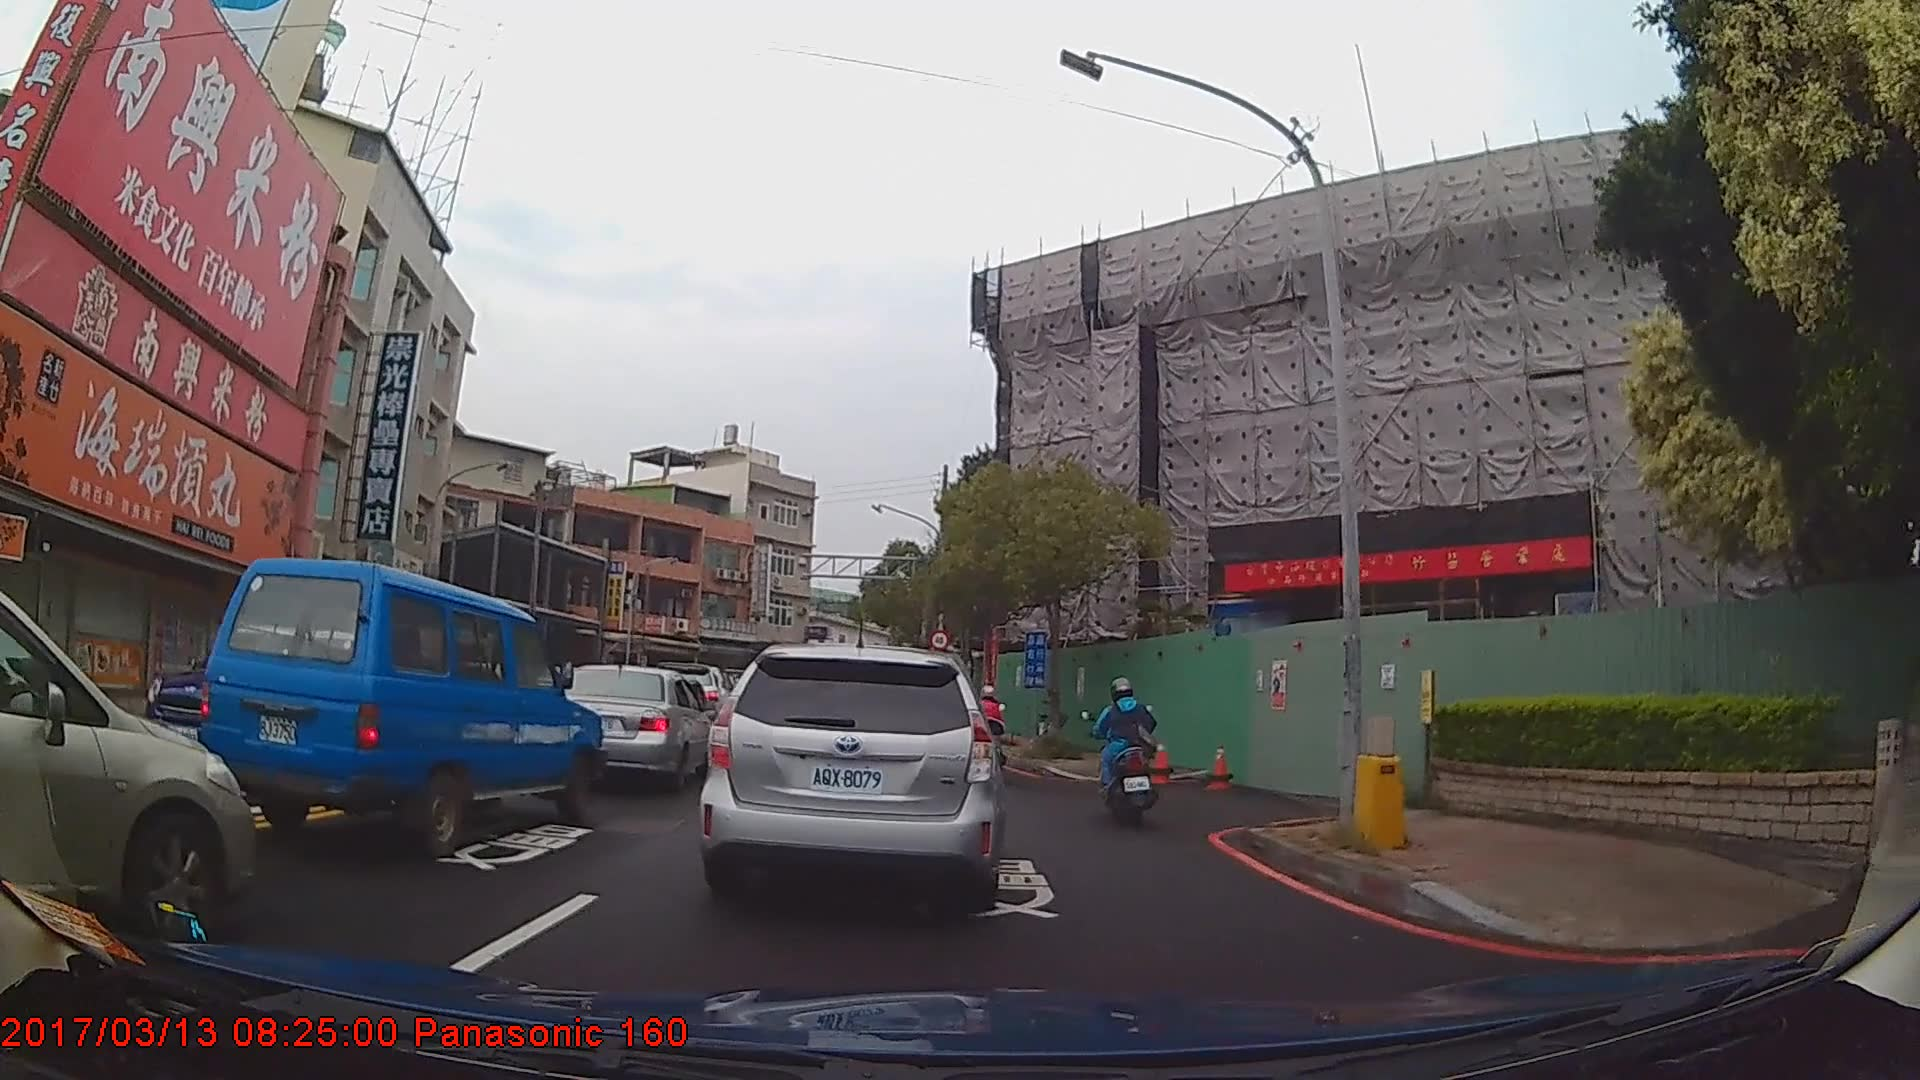rider: (1097, 680, 1158, 826), (972, 684, 1010, 776)
vehicle: (198, 554, 604, 858), (0, 590, 257, 950), (701, 643, 1010, 913), (138, 619, 399, 805), (551, 663, 712, 795)
